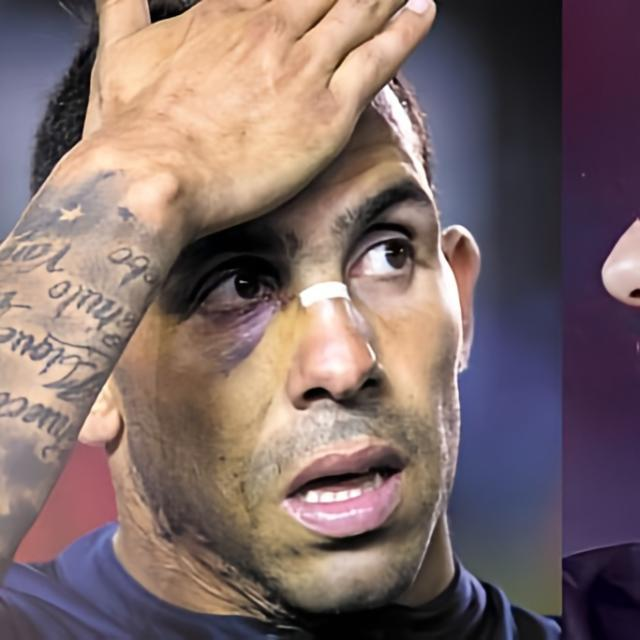fear: (130, 72, 458, 601)
